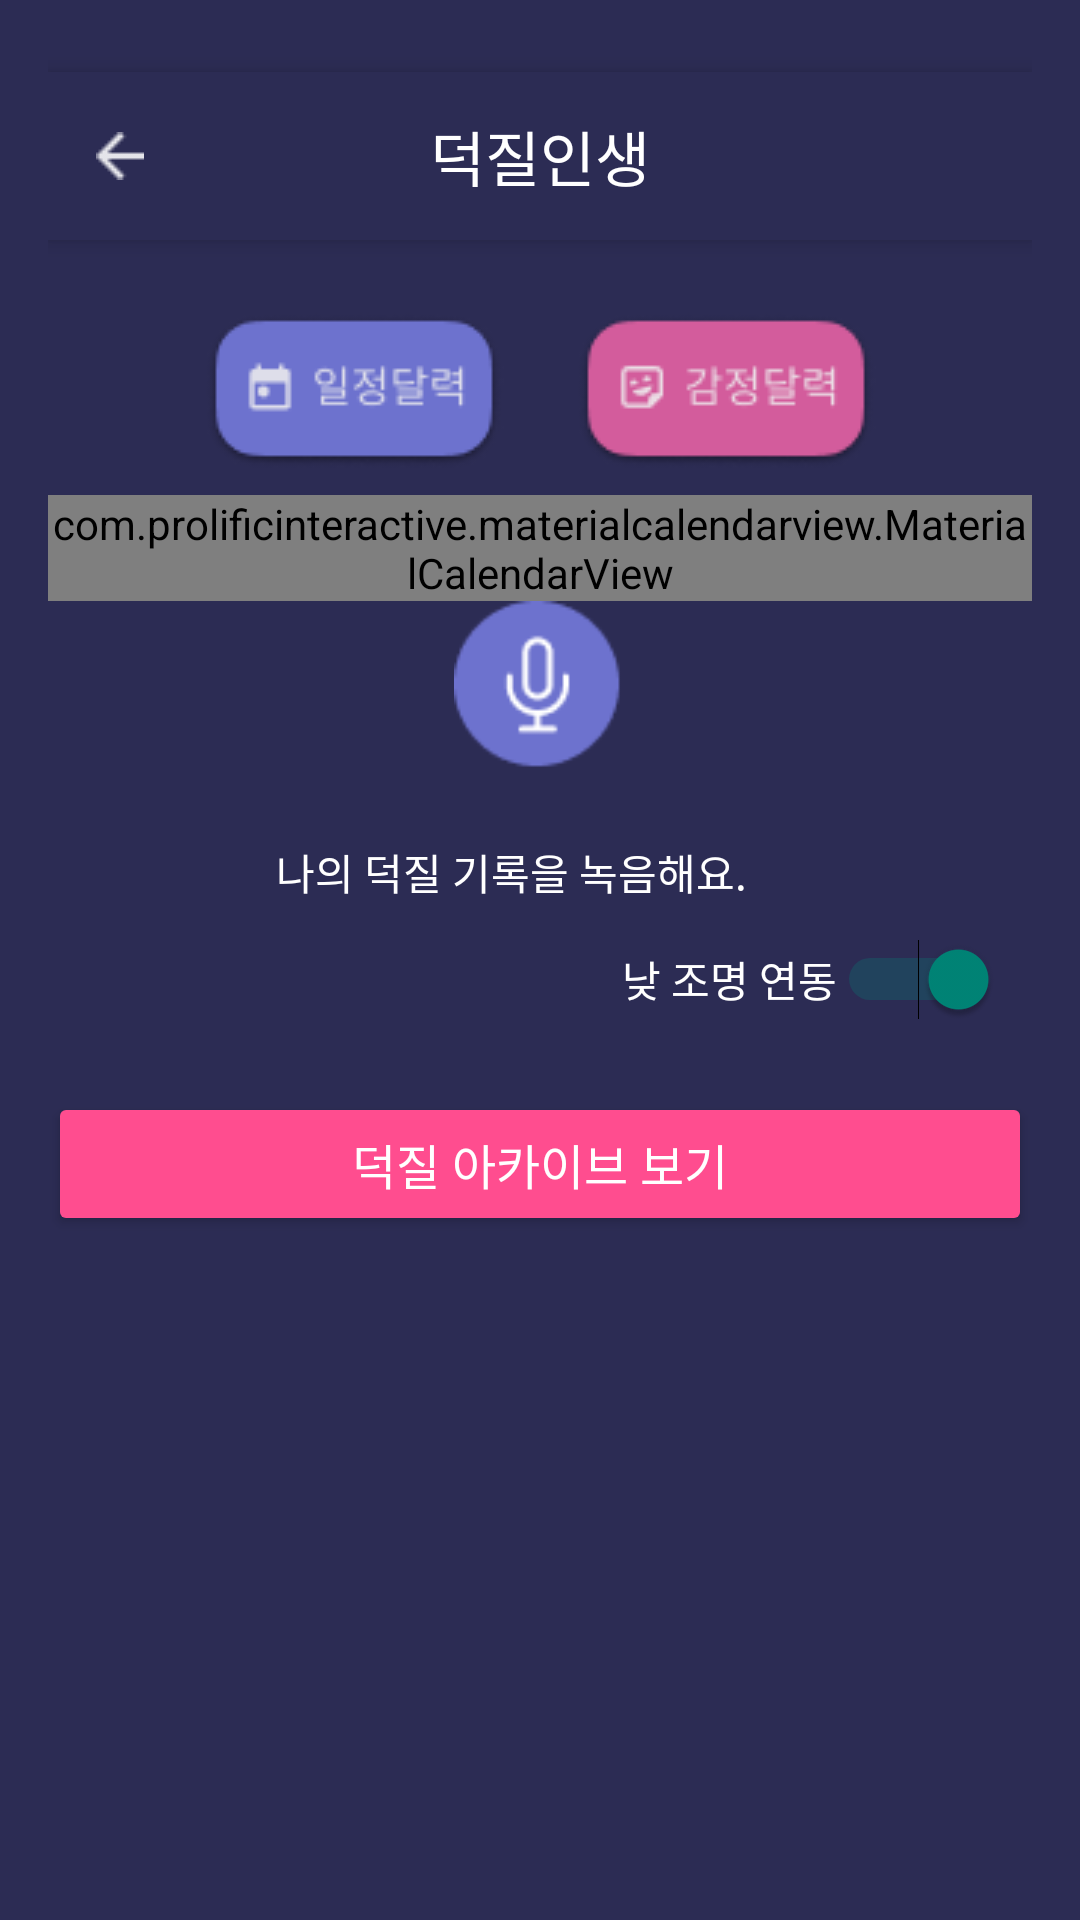

Icon bounding boxes for this 1080*1920 phone screenshot, format (x1, y1, x2, y2):
Mic Button: (454, 601, 620, 767)
